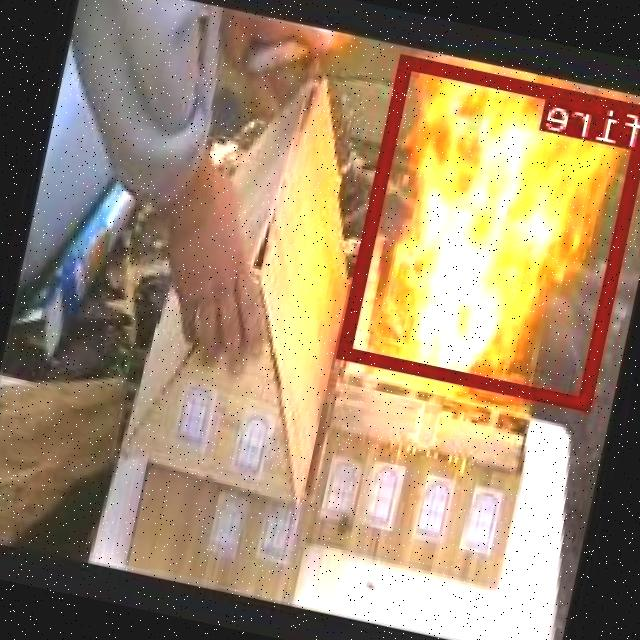fire: (339, 53, 640, 408)
